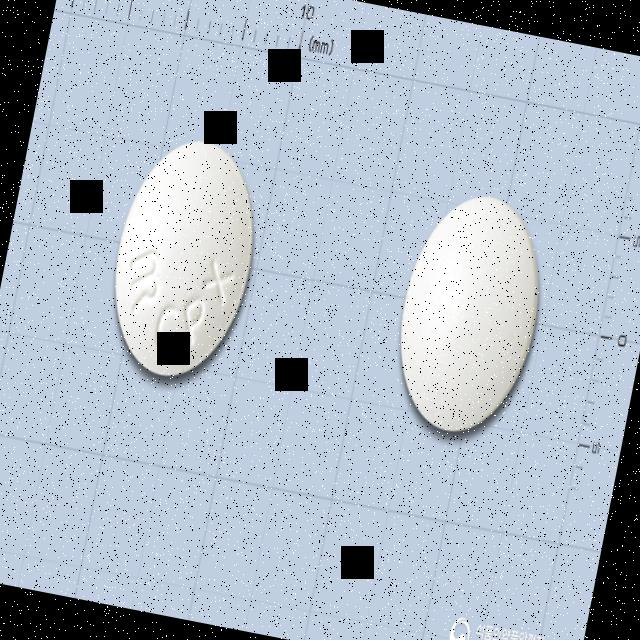Ciprofloxacin Tab- Mirae: (94, 125, 276, 393)
